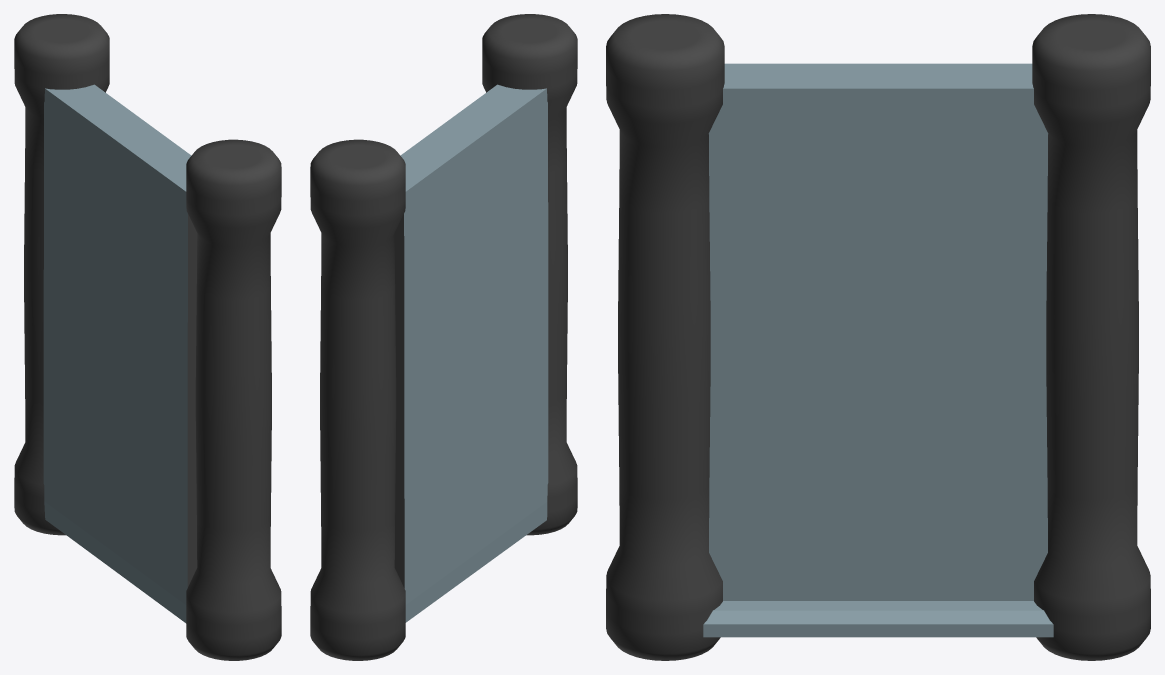
Rendered from small wall line 2 pillars.fbx.
3 views of the same model, side by side, from view 1: azimuth 30°, elevation 25°; view 2: azimuth 150°, elevation 25°; view 3: azimuth 270°, elevation 25° (orthographic). The views are drawn at different scales.
Parts seen in each view (by area): view 1: line_wall_small_2_pillar; view 2: line_wall_small_2_pillar; view 3: line_wall_small_2_pillar.
Part boxes in pixels (box(x1,y1,x2,y2)): line_wall_small_2_pillar: box(14, 14, 281, 660); line_wall_small_2_pillar: box(310, 14, 577, 660); line_wall_small_2_pillar: box(606, 14, 1150, 660).
Bounding box in the file's own units: 157 × 881 × 720.
